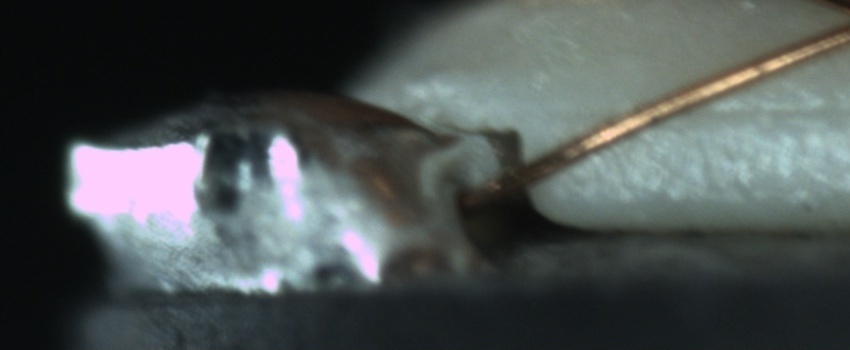CL: (829, 1, 850, 43)
DL: (620, 84, 850, 148)
